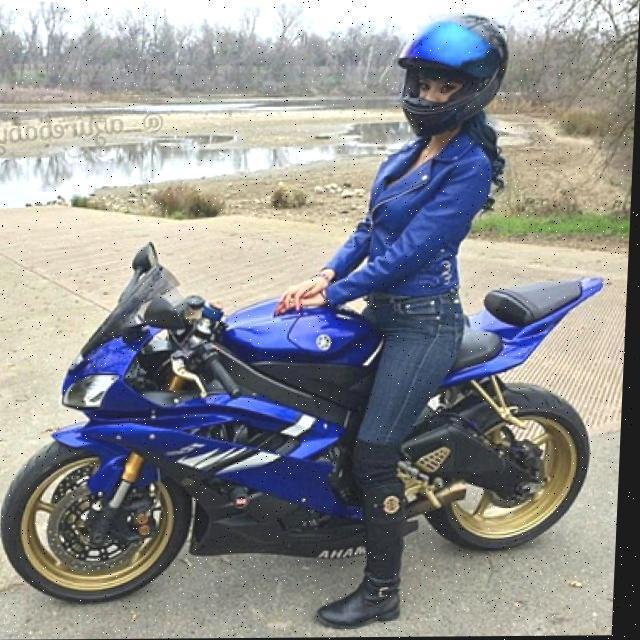Helmet: (392, 10, 522, 140)
